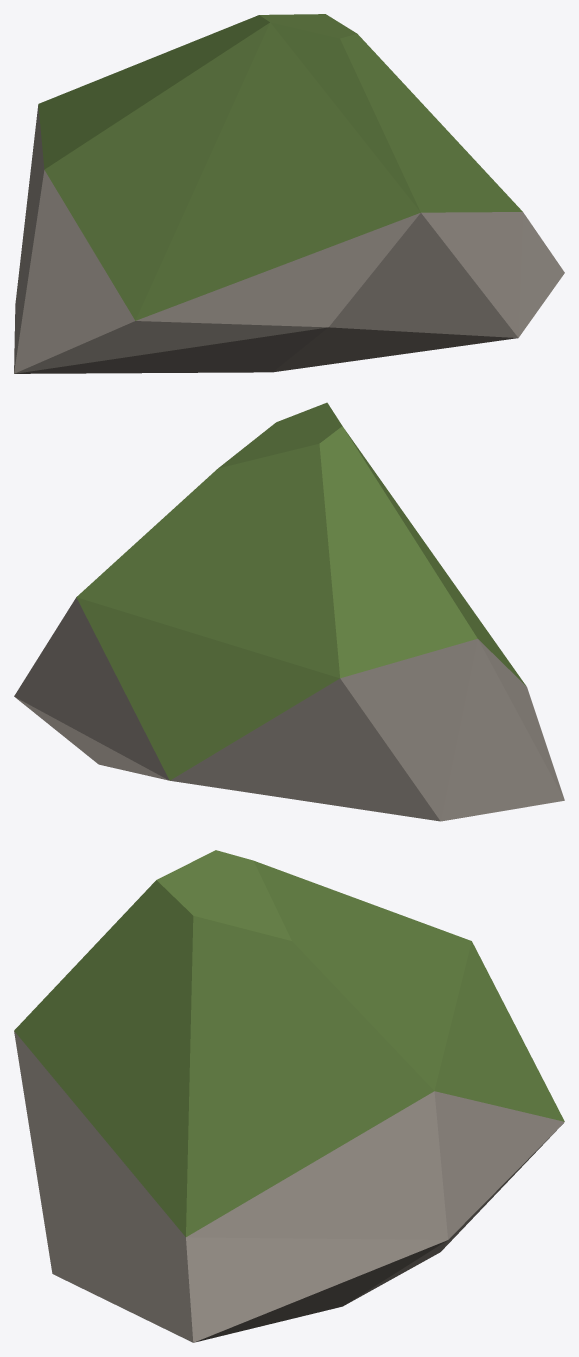
The model's file is Boulder_B.fbx.
3 renders of one model, top to bottom at view 1: azimuth 30°, elevation 25°; view 2: azimuth 150°, elevation 25°; view 3: azimuth 270°, elevation 25°, orthographic. The views are drawn at different scales.
Visible parts, largest first — view 1: Boulder_B; view 2: Boulder_B; view 3: Boulder_B.
Boxes of the visible parts, x1=… form: Boulder_B: x1=14, y1=14, x2=564, y2=373; Boulder_B: x1=14, y1=402, x2=564, y2=821; Boulder_B: x1=14, y1=850, x2=564, y2=1342.
Bounding box in the file's own units: 3.6 × 2.05 × 3.
